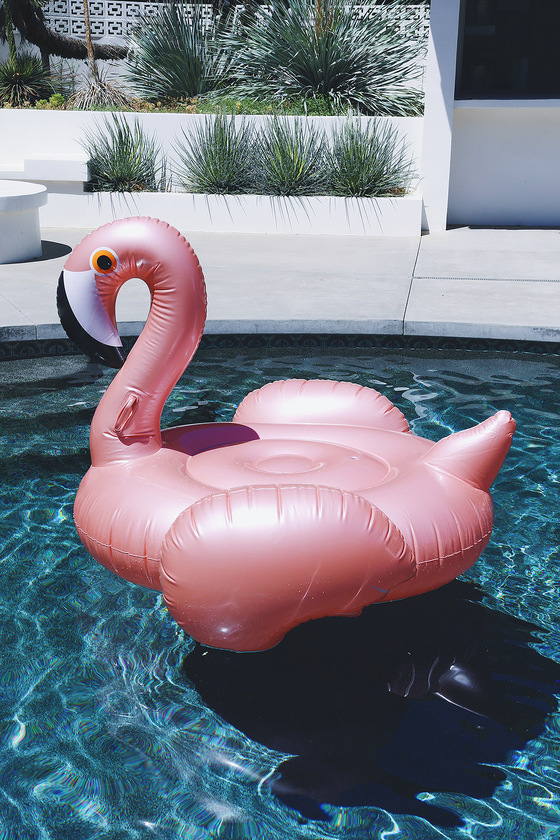Flamingo: (52, 216, 519, 659)
